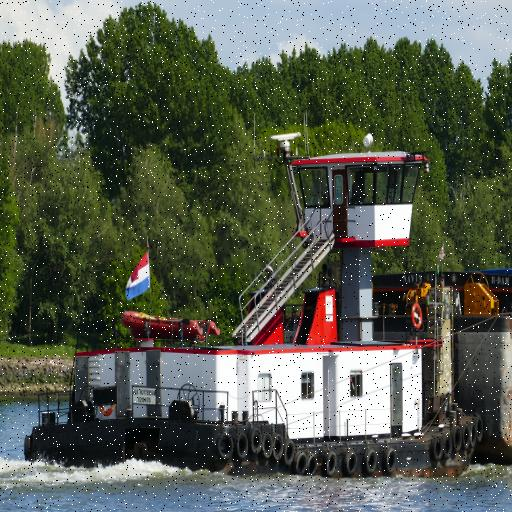tugboat: (22, 130, 487, 489)
